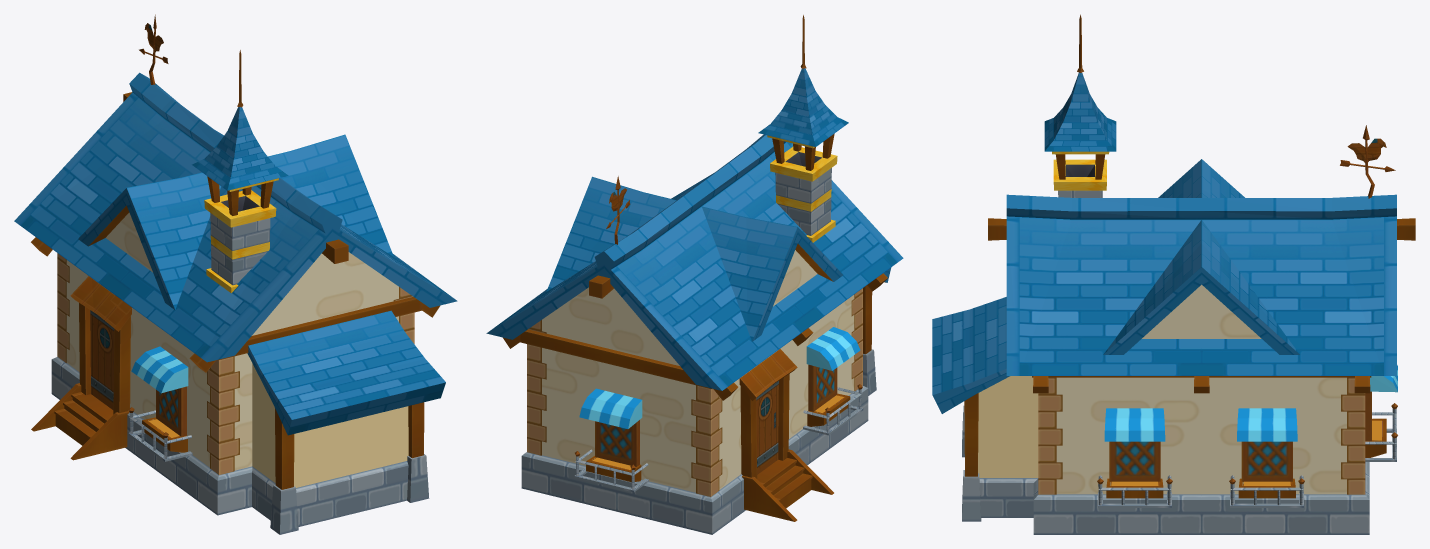
File: HOS0110009.FBX
The picture shows the model from 3 angles, left to right: view 1: azimuth 30°, elevation 25°; view 2: azimuth 150°, elevation 25°; view 3: azimuth 270°, elevation 25°; orthographic projection. The views are drawn at different scales.
Visible parts, largest first — view 1: smHOS0110009; view 2: smHOS0110009; view 3: smHOS0110009.
Part boxes in pixels (x1,y1,x2,y2): smHOS0110009: (14,14,457,534); smHOS0110009: (486,15,903,534); smHOS0110009: (932,14,1415,534).
Bounding box in the file's own units: 6.97 × 10.36 × 10.23.
1 material, 1 textured.
